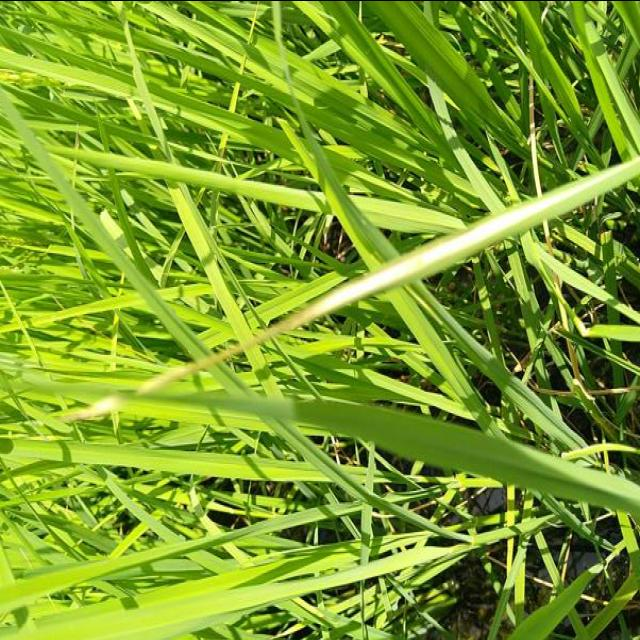Leaf Blight: (148, 167, 621, 392)
